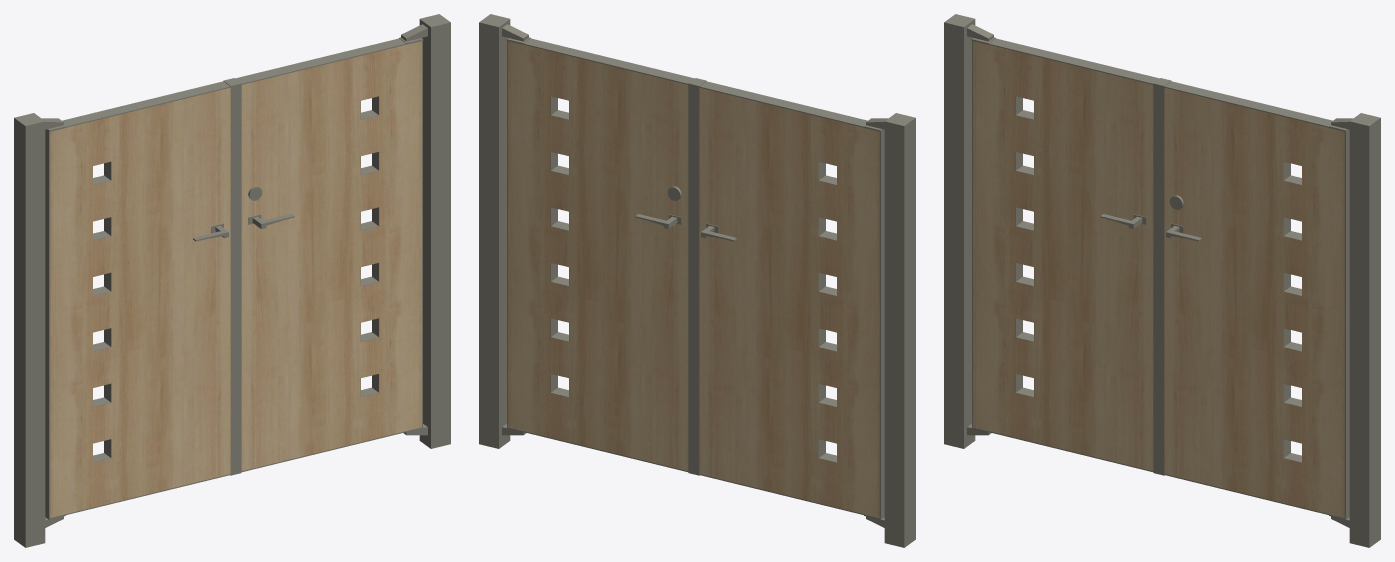
The model's file is abmonpi-komado_h1400-w1400_actyoak.fbx.
3 views of the same model, side by side, from view 1: azimuth 30°, elevation 25°; view 2: azimuth 150°, elevation 25°; view 3: azimuth 330°, elevation 25° (orthographic).
Parts seen in each view (by area): view 1: abmonpi-komado_h1400-w1400_rustycopper; view 2: abmonpi-komado_h1400-w1400_rustycopper; view 3: abmonpi-komado_h1400-w1400_rustycopper.
Boxes of the visible parts, x1=… form: abmonpi-komado_h1400-w1400_rustycopper: x1=14, y1=14, x2=450, y2=547; abmonpi-komado_h1400-w1400_rustycopper: x1=479, y1=14, x2=915, y2=547; abmonpi-komado_h1400-w1400_rustycopper: x1=944, y1=14, x2=1380, y2=547.
Size of the model in its own units: 160 by 152 by 16.7.
2 materials, 2 textured.
